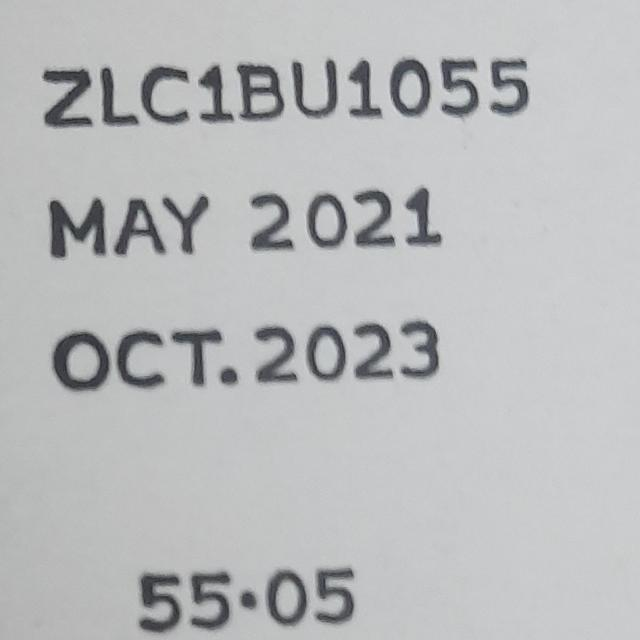sentence: (43, 56, 530, 128), (49, 188, 442, 259), (53, 320, 440, 391), (139, 568, 355, 633)
